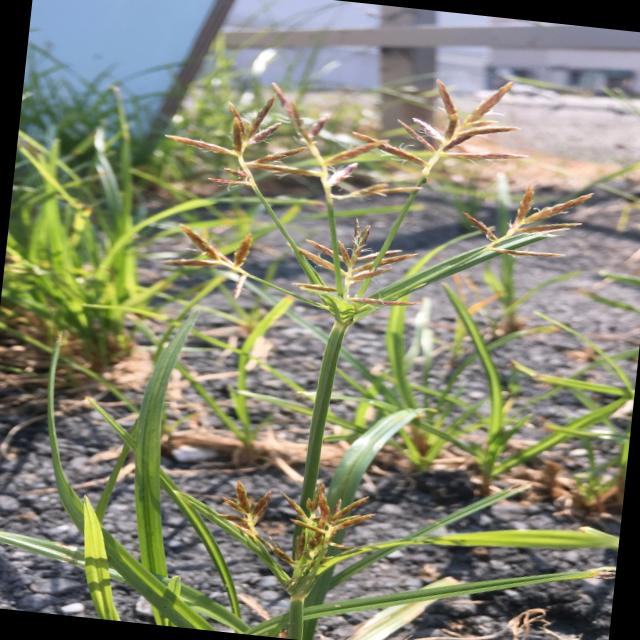cyperus: (143, 38, 613, 352), (195, 463, 393, 610)
